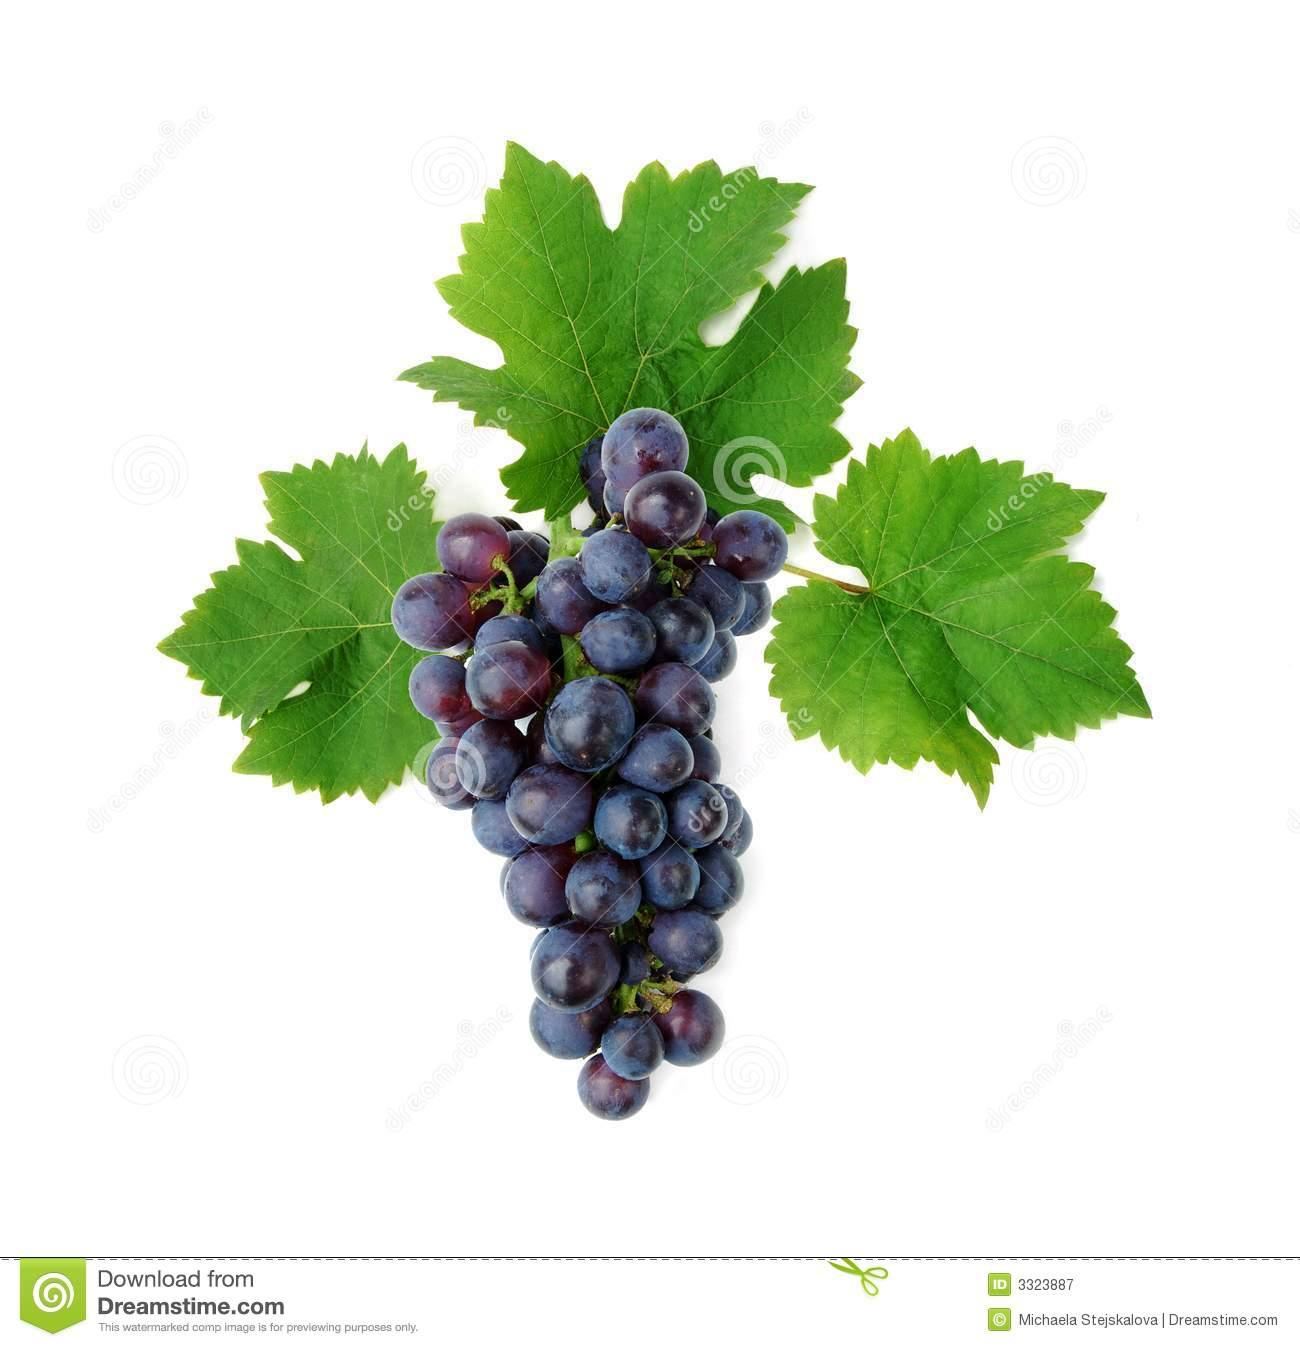grape leaf black rot: (397, 127, 890, 497), (768, 437, 1165, 809), (133, 437, 462, 819)
